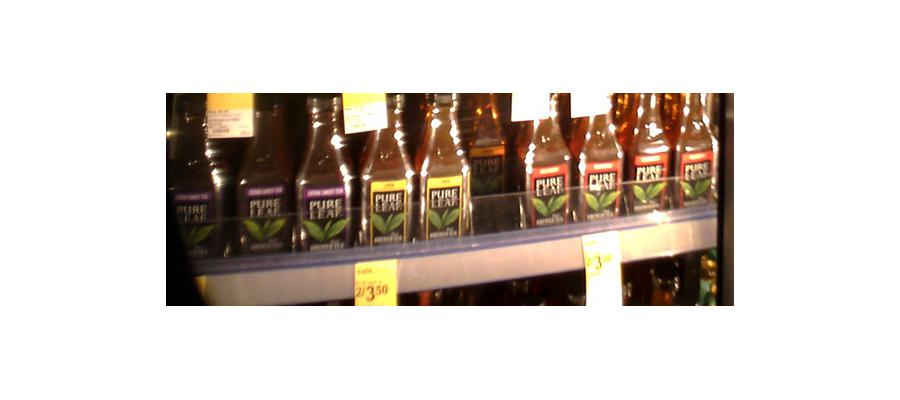bottle: (167, 95, 232, 270), (296, 93, 354, 250), (238, 93, 291, 257), (360, 93, 413, 246), (416, 90, 470, 240), (522, 94, 572, 227), (574, 89, 621, 222), (462, 90, 509, 211), (623, 89, 670, 209), (674, 93, 712, 208)
